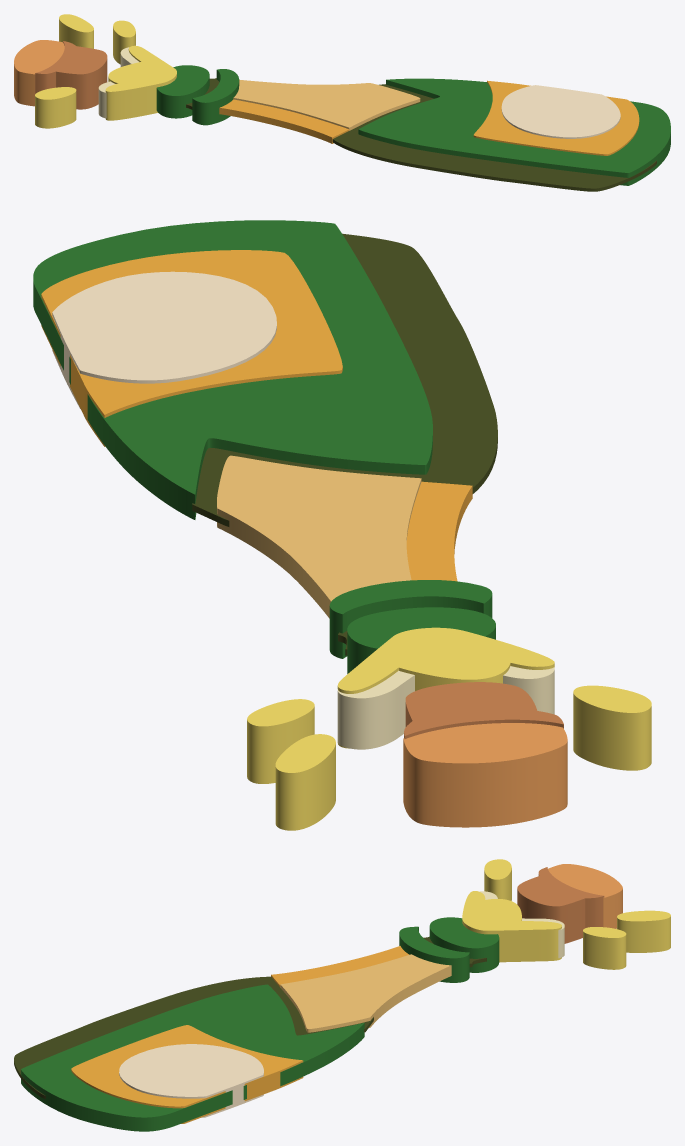
The model's file is emoji_u1f37e.glb.
The picture shows the model from 3 angles, top to bottom: view 1: azimuth 30°, elevation 25°; view 2: azimuth 150°, elevation 25°; view 3: azimuth 270°, elevation 25°; orthographic projection. The views are drawn at different scales.
Parts seen in each view (by area): view 1: emoji_u1f37e; view 2: emoji_u1f37e; view 3: emoji_u1f37e.
Boxes of the visible parts, <box> form: emoji_u1f37e: <box>14,14,670,191</box>; emoji_u1f37e: <box>33,220,651,830</box>; emoji_u1f37e: <box>14,859,670,1131</box>.
Bounding box in the file's own units: 0.0304 × 0.0022 × 0.0338.
